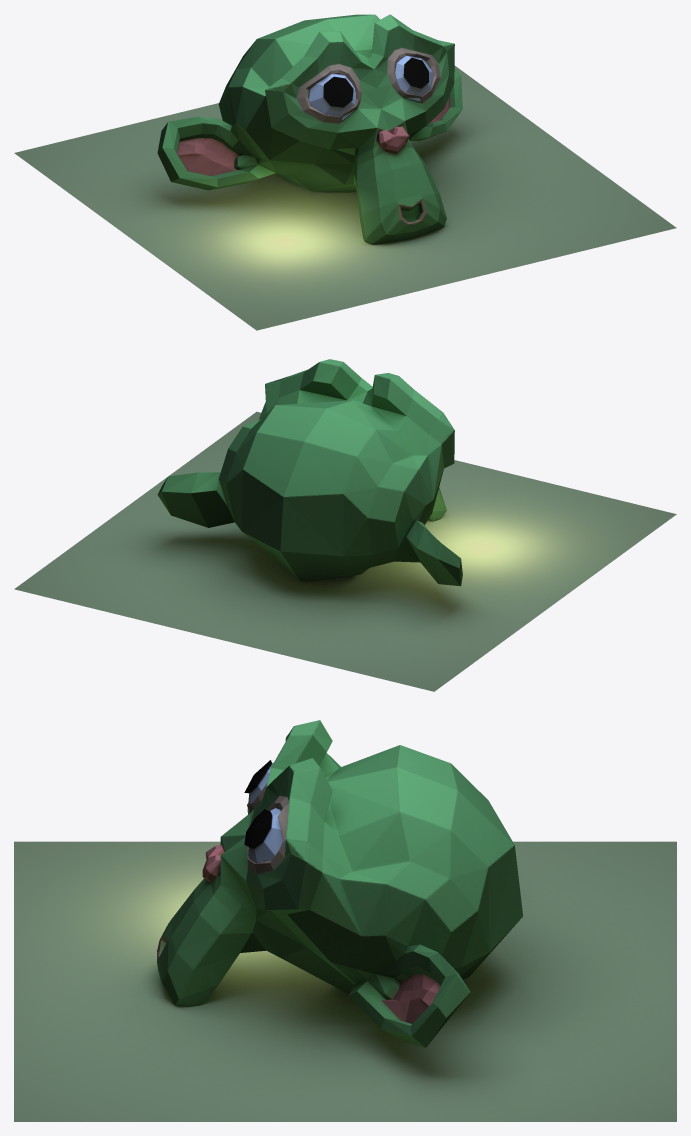
The model's file is SuzBakeDemo2.fbx.
3 views of the same model, one above another, from view 1: azimuth 30°, elevation 25°; view 2: azimuth 150°, elevation 25°; view 3: azimuth 270°, elevation 25° (orthographic). The views are drawn at different scales.
Visible parts, largest first — view 1: Plane, Suzanne; view 2: Plane, Suzanne; view 3: Plane, Suzanne.
Part boxes in pixels (left/top/right/bottom): Plane: left=14, top=65, right=676, bottom=330; Suzanne: left=157, top=14, right=462, bottom=244; Plane: left=14, top=411, right=676, bottom=691; Suzanne: left=157, top=359, right=462, bottom=586; Plane: left=14, top=841, right=676, bottom=1121; Suzanne: left=157, top=720, right=522, bottom=1047.
Bounding box in the file's own units: 601 × 253 × 601.
1 material, 1 textured.
